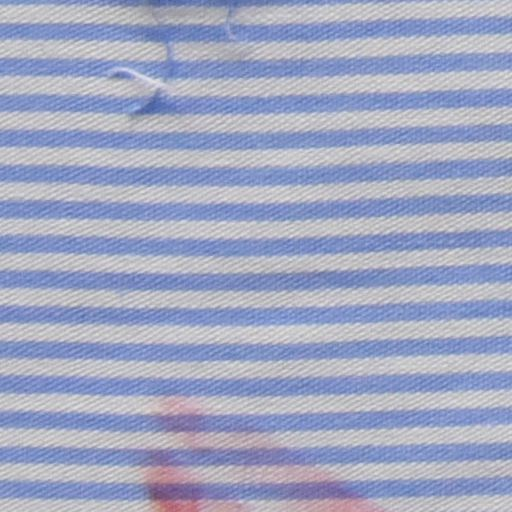defect: (116, 1, 179, 127), (144, 469, 248, 512), (298, 471, 388, 512)
